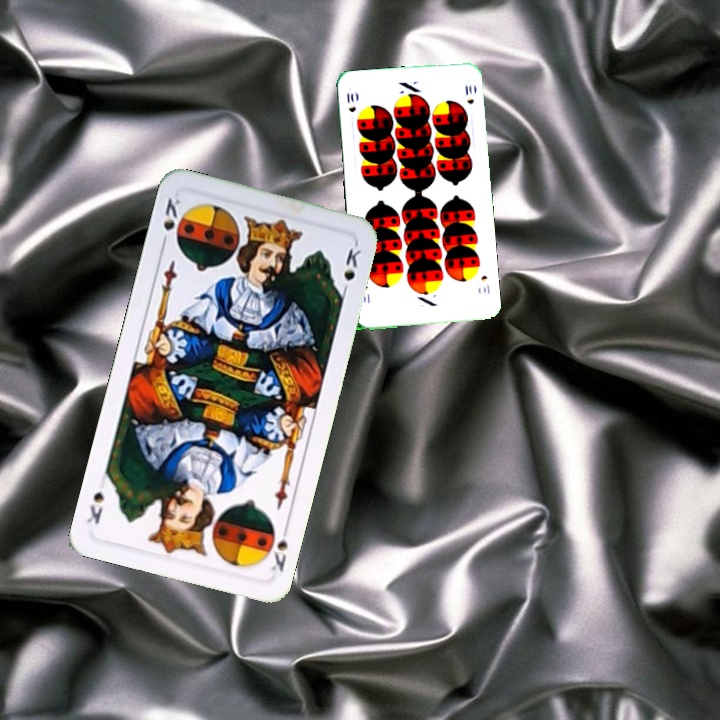S10: (343, 88, 359, 114), (477, 271, 492, 296)
SK: (157, 194, 183, 250), (266, 520, 292, 575)
